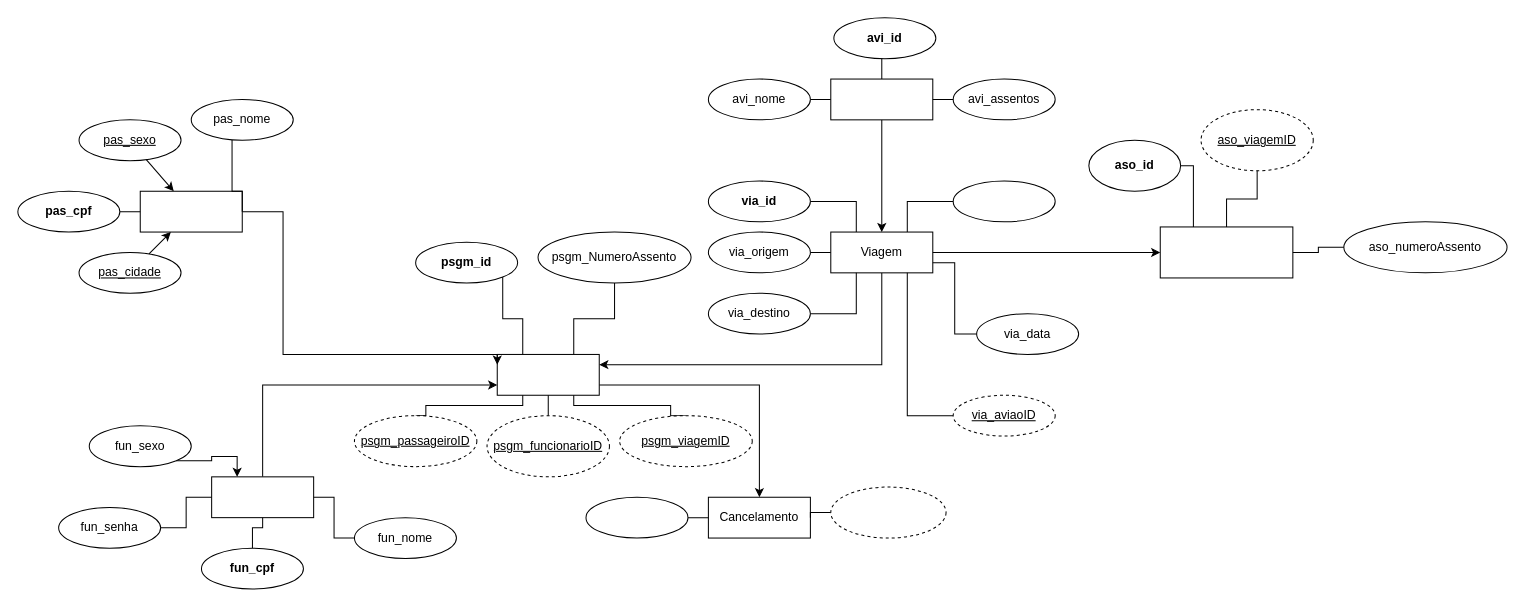
The diagram is 1525 pixels wide and 607 high, and some of its shapes have lost their labels. The shapes that lost their labels are listed below. From the top down, each one's box as (x1, y1, x2, y2) in pixels, then its label:
(830, 78, 933, 120): Avião
(139, 190, 242, 232): Passageiro
(952, 180, 1055, 222): via_preco
(1159, 226, 1293, 278): Assento Ocupado
(496, 353, 599, 395): Passagem
(211, 476, 314, 518): Funcionário
(585, 496, 688, 538): can_id
(830, 486, 946, 538): can_passagemID
